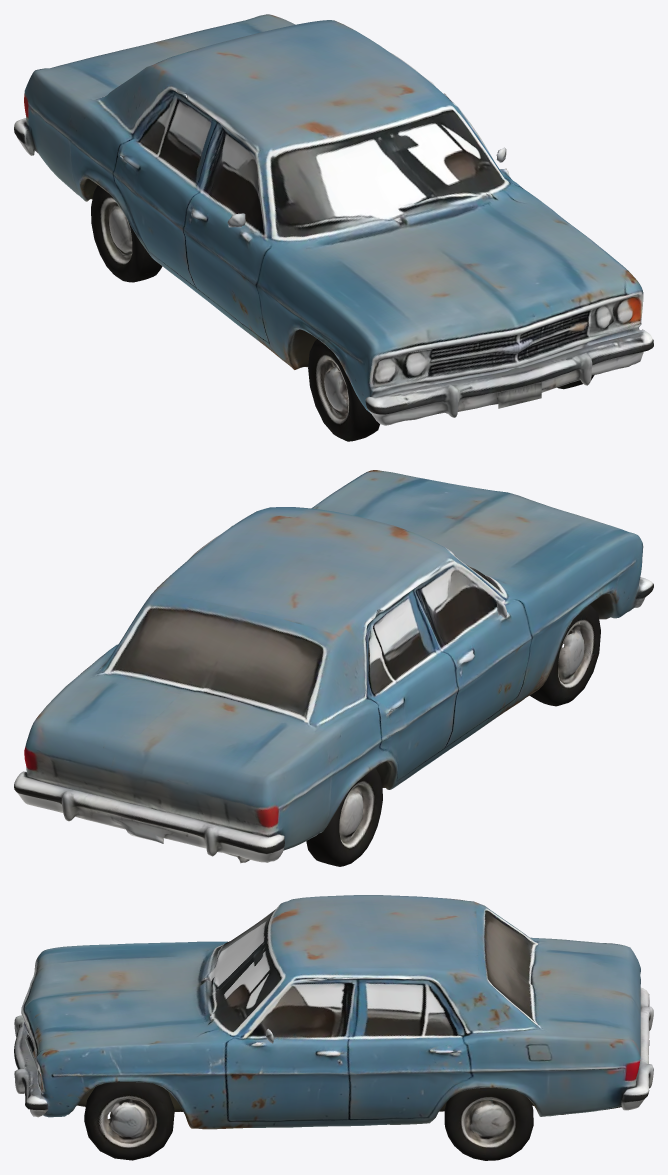
Rendered from v_sedan.glb.
3 views of the same model, one above another, from view 1: azimuth 30°, elevation 25°; view 2: azimuth 150°, elevation 25°; view 3: azimuth 270°, elevation 25° (orthographic). The views are drawn at different scales.
Parts seen in each view (by area): view 1: model; view 2: model; view 3: model.
Part boxes in pixels (x1,y1,x2,y2): model: (14, 14, 653, 441); model: (14, 470, 653, 866); model: (14, 895, 653, 1160).
Size of the model in its own units: 0.7909 by 0.609 by 1.89.
Materials: 1 (1 with a texture image).
